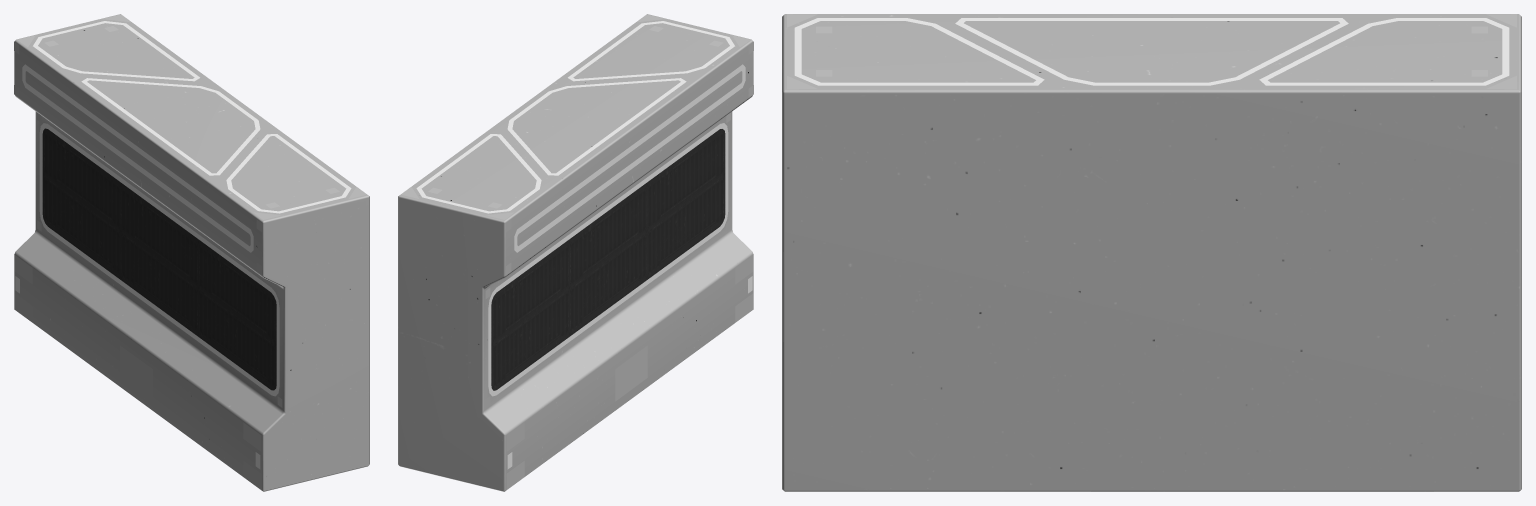
File: SM_Modular_Interior_WallPart_Merged.fbx
3 renders of one model, left to right at view 1: azimuth 30°, elevation 25°; view 2: azimuth 150°, elevation 25°; view 3: azimuth 270°, elevation 25°, orthographic. The views are drawn at different scales.
Parts seen in each view (by area): view 1: SM_Modular_Interior_WallPart_Merged_LOD0; view 2: SM_Modular_Interior_WallPart_Merged_LOD0; view 3: SM_Modular_Interior_WallPart_Merged_LOD0.
Part boxes in pixels (x1,y1,x2,y2): SM_Modular_Interior_WallPart_Merged_LOD0: [14, 14, 369, 491]; SM_Modular_Interior_WallPart_Merged_LOD0: [398, 14, 753, 491]; SM_Modular_Interior_WallPart_Merged_LOD0: [782, 14, 1521, 491].
Bounding box in the file's own units: 63.52 × 250 × 150.
